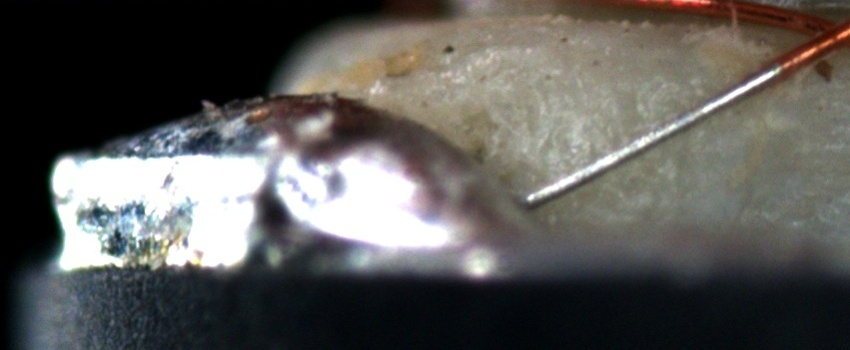TS: (521, 64, 783, 209)
